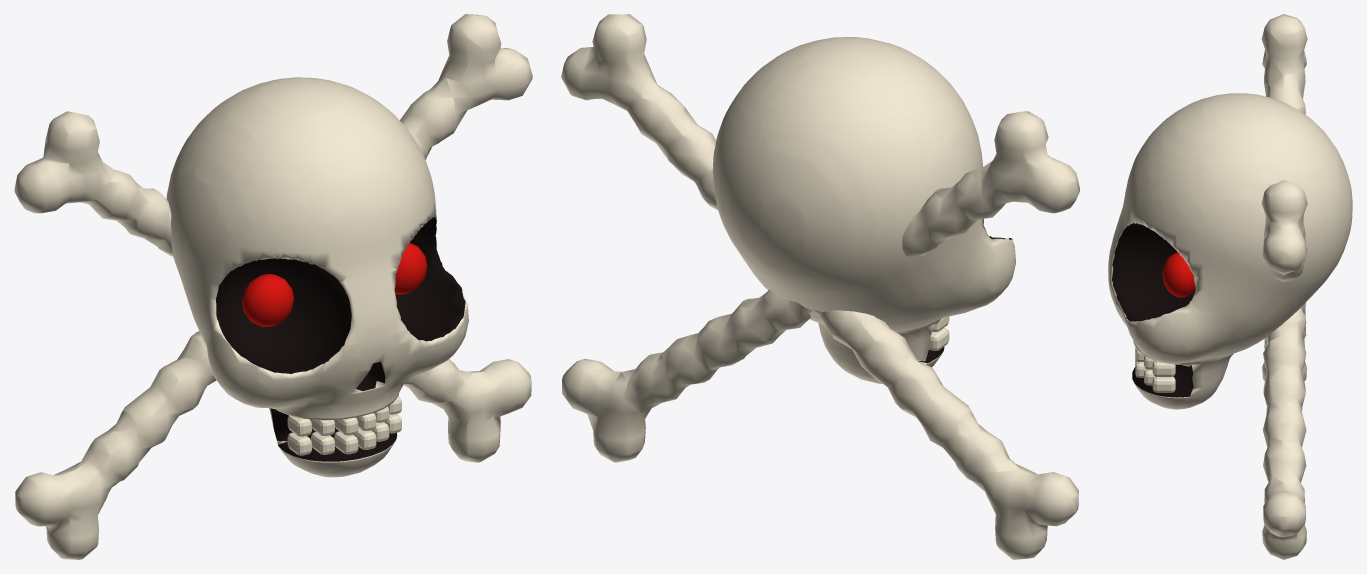
File: skull.glb
3 renders of one model, left to right at view 1: azimuth 30°, elevation 25°; view 2: azimuth 150°, elevation 25°; view 3: azimuth 270°, elevation 25°, orthographic. The views are drawn at different scales.
Visible parts, largest first — view 1: Skull.001, Bone2.001, Bone0.001, Sphere.001, Sphere; view 2: Skull.001, Bone2.001, Bone0.001; view 3: Skull.001, Bone0.001, Bone2.001, Sphere, Cube.011, Cube.005.
Part boxes in pixels (x1,y1,x2,y2): Skull.001: (166,77,468,477); Bone2.001: (15,14,532,559); Bone0.001: (14,111,531,462); Sphere.001: (242,274,293,326); Sphere: (395,243,427,294); Skull.001: (712,37,1015,383); Bone2.001: (561,14,1078,559); Bone0.001: (562,111,1079,462); Skull.001: (1108,93,1352,409); Bone0.001: (1261,14,1307,559); Bone2.001: (1261,180,1307,381); Sphere: (1162,252,1195,297); Cube.011: (1152,376,1175,392); Cube.005: (1152,361,1175,376).
Bounding box in the file's own units: 1.3 × 1.09 × 0.6386.
